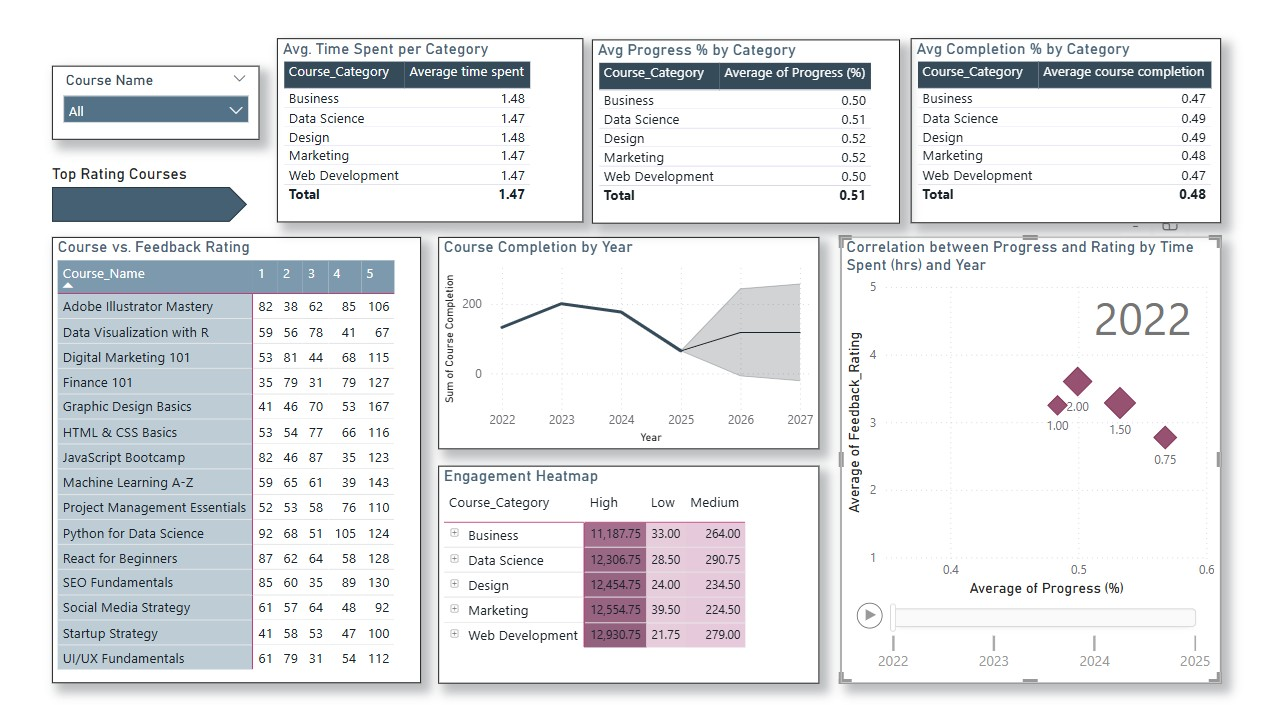

This screenshot's page, from the dashboard's own definition file:
{"tool":"powerbi","page":{"name":"Performance & Engagement Analysis 2","canvas":[1280,720],"ordinal":1},"visuals":[{"type":"pivotTable","title":"Course vs. Feedback Rating","fields":{"Rows":["Final Data.Course_Name"],"Values":["Sum(Final Data.Total Sessions)"],"Columns":["Final Data.Feedback_Rating"]},"box":[64.7,243.8,367,444.1],"z":1000},{"type":"scatterChart","title":"Correlation between Progress and Rating  by Time Spent (hrs) and Year","fields":{"X":["Final Data.Progress (%)"],"Y":["Final Data.Feedback_Rating"],"Play":["Final Data.Enrollment_Date.Variation.Date Hierarchy.Year"],"Size":["Sum(Final Data.Progress (%))"],"Category":["Final Data.Time_Spent (hrs)"]},"box":[849.6,243.8,378.2,444.1],"z":2000},{"type":"tableEx","title":"Avg Completion % by Category ","fields":{"Values":["Final Data.Course_Category","Final Data.Average course completion"]},"box":[919.3,46,308.5,184.1],"z":3000},{"type":"tableEx","title":"Avg. Time Spent per Category ","fields":{"Values":["Final Data.Course_Category","Final Data.Average time spent"]},"box":[288.6,46,304.8,182.9],"z":4000},{"type":"shape","title":"Top Rating Courses","box":[64.7,171.7,194.1,57.2],"z":5000},{"type":"lineChart","title":"Course Completion  by Year","fields":{"Category":["Final Data.Enrollment_Date.Variation.Date Hierarchy.Year","Final Data.Enrollment_Date.Variation.Date Hierarchy.Quarter","Final Data.Enrollment_Date.Variation.Date Hierarchy.Month","Final Data.Enrollment_Date.Variation.Date Hierarchy.Day"],"Y":["Sum(Final Data.Course Completion )"]},"box":[449.1,243.8,379.4,211.5],"z":6000},{"type":"pivotTable","title":"Engagement Heatmap","fields":{"Values":["Sum(Final Data.Enagegement Score Range)"],"Columns":["Final Data.Engagement Level"],"Rows":["Final Data.Course_Category","Final Data.Course_Name"]},"box":[449.1,471.5,379.4,216.4],"z":7000},{"type":"tableEx","title":"Avg Progress % by Category ","fields":{"Values":["Final Data.Course_Category","Avg(Final Data.Progress (%))"]},"box":[602.1,47.3,306,182.9],"z":8000},{"type":"slicer","fields":{"Values":["Final Data.Course_Name"]},"box":[64.7,73.4,206.5,73.4],"z":9000}]}

Visuals, with their boxes in screenshot pixels (x1, y1, x2, y2), scaled from the page's 1280x720 canvas onto the 1272x705 screenshot:
"Course vs. Feedback Rating" pivotTable: region(64, 239, 429, 674)
"Correlation between Progress and Rating  by Time Spent (hrs) and Year" scatterChart: region(844, 239, 1220, 674)
"Avg Completion % by Category " tableEx: region(914, 45, 1220, 225)
"Avg. Time Spent per Category " tableEx: region(287, 45, 590, 224)
"Top Rating Courses" shape: region(64, 168, 257, 224)
"Course Completion  by Year" lineChart: region(446, 239, 823, 446)
"Engagement Heatmap" pivotTable: region(446, 462, 823, 674)
"Avg Progress % by Category " tableEx: region(598, 46, 902, 225)
slicer - Final Data.Course_Name: region(64, 72, 270, 144)
